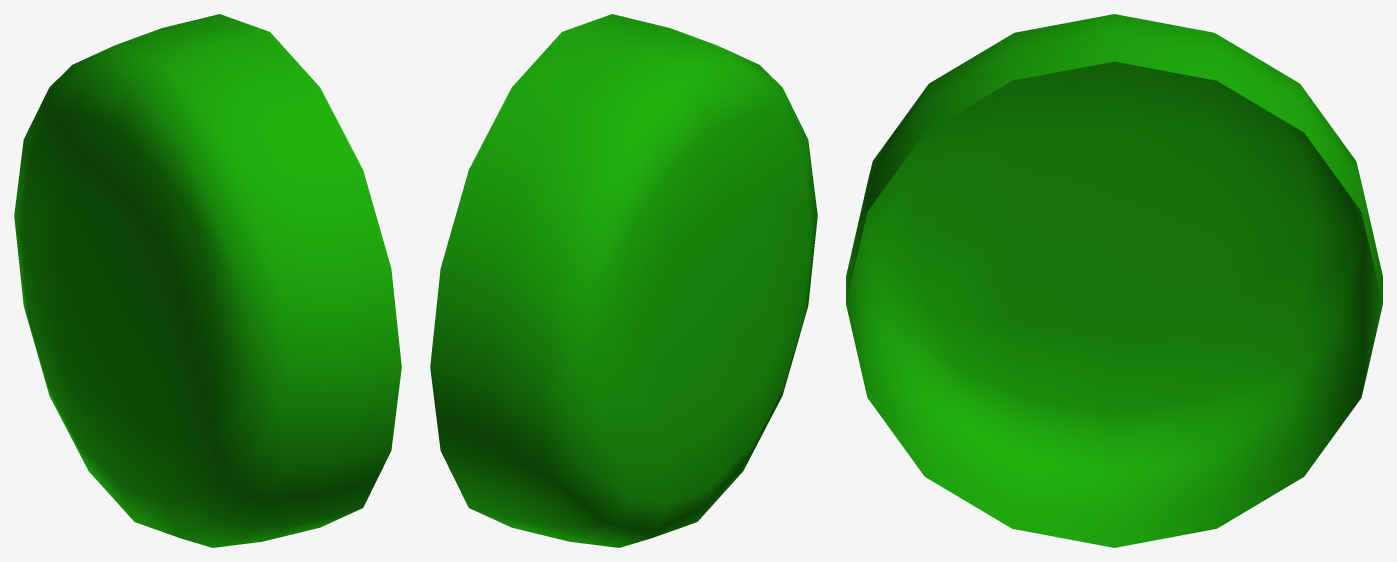
File: button_green.FBX
The picture shows the model from 3 angles, left to right: view 1: azimuth 30°, elevation 25°; view 2: azimuth 150°, elevation 25°; view 3: azimuth 270°, elevation 25°; orthographic projection.
Parts seen in each view (by area): view 1: Object167; view 2: Object167; view 3: Object167.
Boxes of the visible parts, x1,y1,x2,y2 form: Object167: (14,14,401,547); Object167: (430,14,817,547); Object167: (846,14,1382,547).
Size of the model in its own units: 0.0482 by 0.142 by 0.142.
